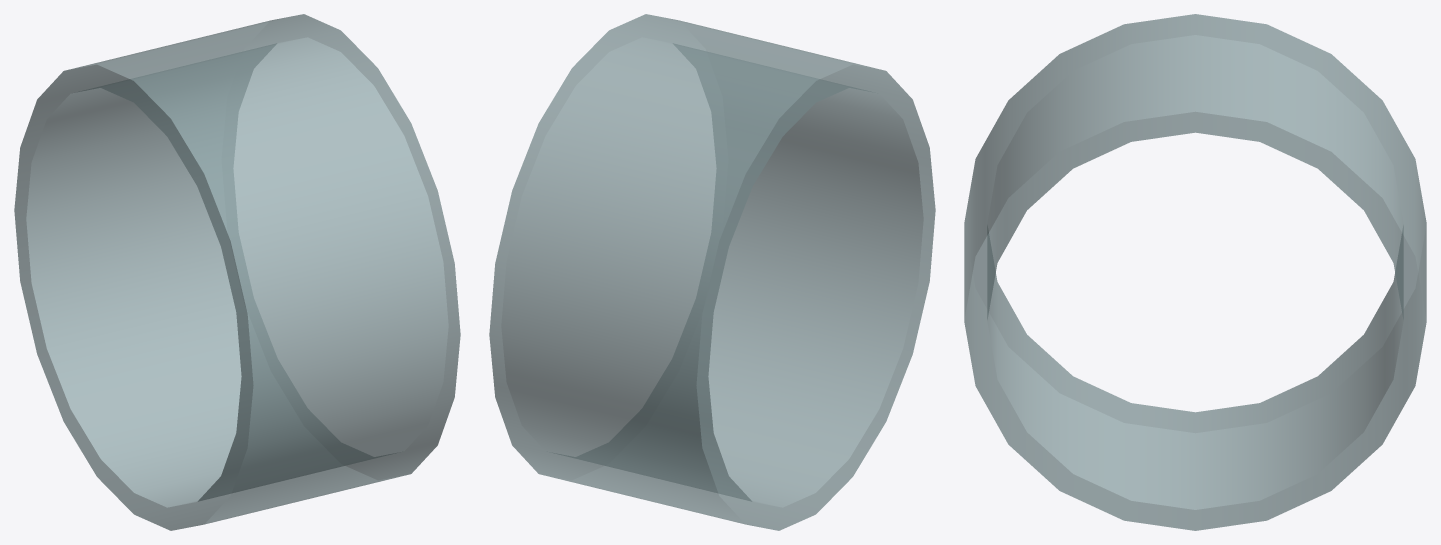
File: Tube_Big1.fbx
3 views of the same model, side by side, from view 1: azimuth 30°, elevation 25°; view 2: azimuth 150°, elevation 25°; view 3: azimuth 270°, elevation 25° (orthographic). The views are drawn at different scales.
Parts seen in each view (by area): view 1: Tube_Big1; view 2: Tube_Big1; view 3: Tube_Big1.
Boxes of the visible parts, x1=… form: Tube_Big1: x1=14, y1=14, x2=460, y2=530; Tube_Big1: x1=489, y1=14, x2=935, y2=530; Tube_Big1: x1=964, y1=14, x2=1426, y2=530.
Bounding box in the file's own units: 2 × 4 × 4.
